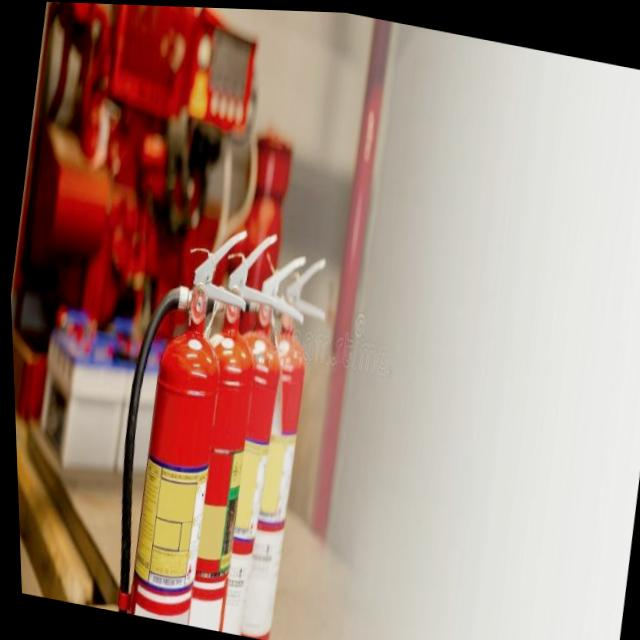FireExtinguisher: (84, 204, 268, 630), (133, 212, 298, 635), (180, 238, 343, 640), (164, 235, 322, 640)
